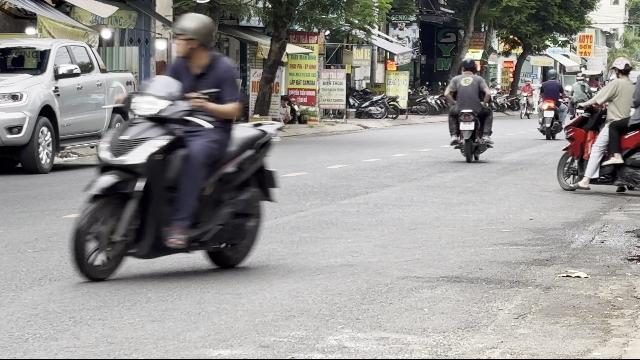helmet: (170, 12, 218, 56), (610, 56, 632, 76)
motorcyclist: (64, 9, 284, 282), (555, 54, 639, 198)
